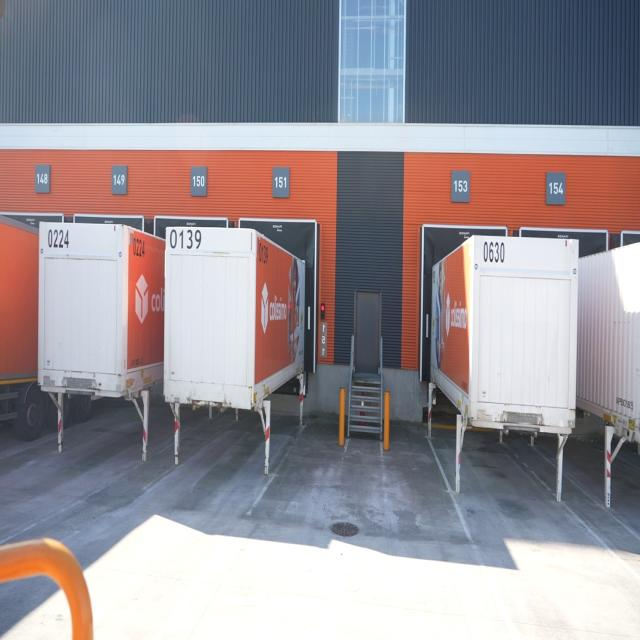Code: (168, 226, 203, 256), (44, 227, 73, 256), (482, 238, 508, 265), (254, 238, 278, 267), (129, 234, 149, 262)
